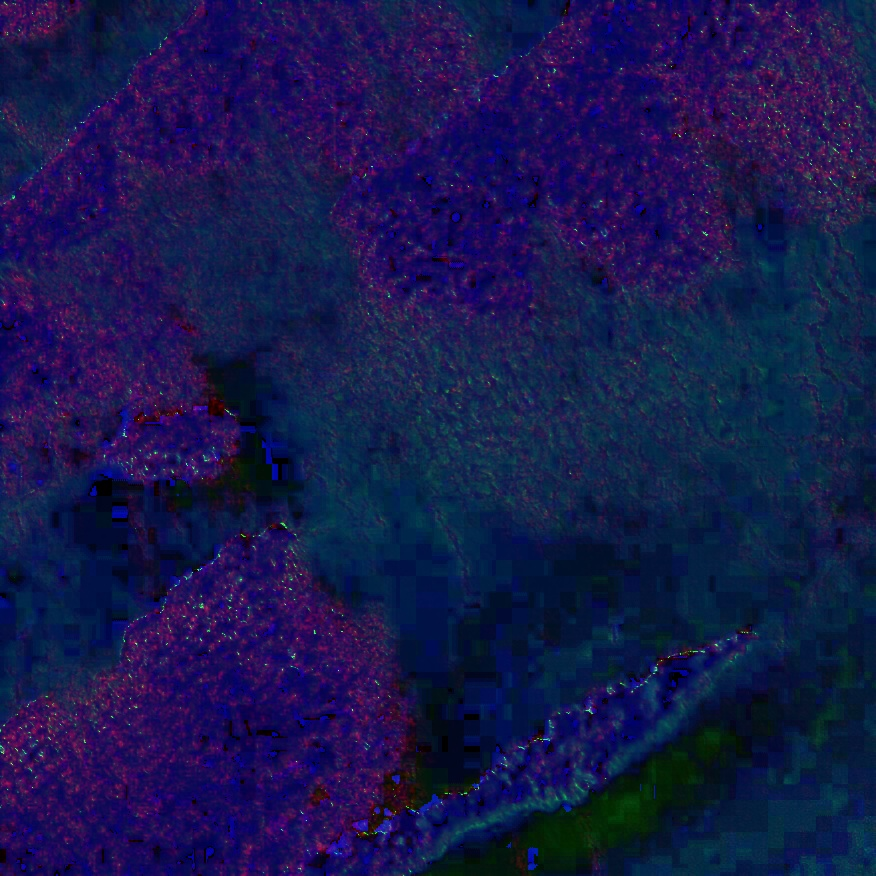rip_current: (101, 217, 629, 742)
